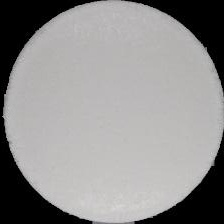33358-274: (0, 0, 224, 224)
